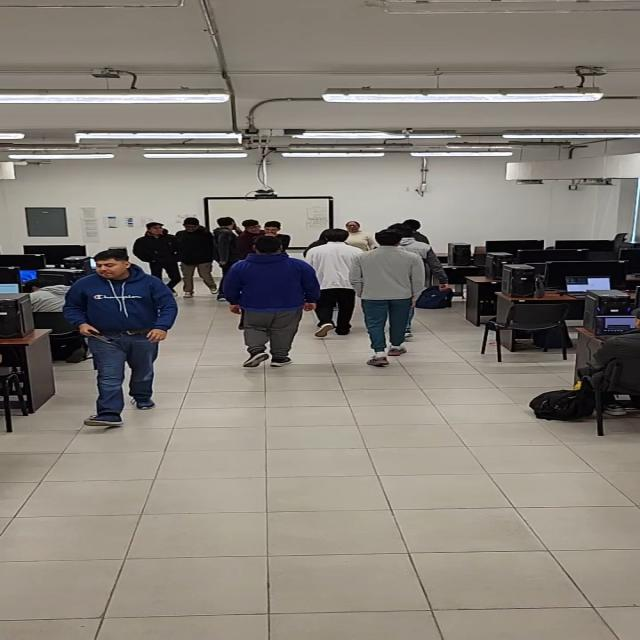Persona: (52, 243, 171, 430), (226, 235, 311, 371), (360, 228, 424, 370), (310, 226, 357, 338), (181, 214, 212, 298), (138, 217, 177, 280), (214, 216, 241, 272)
